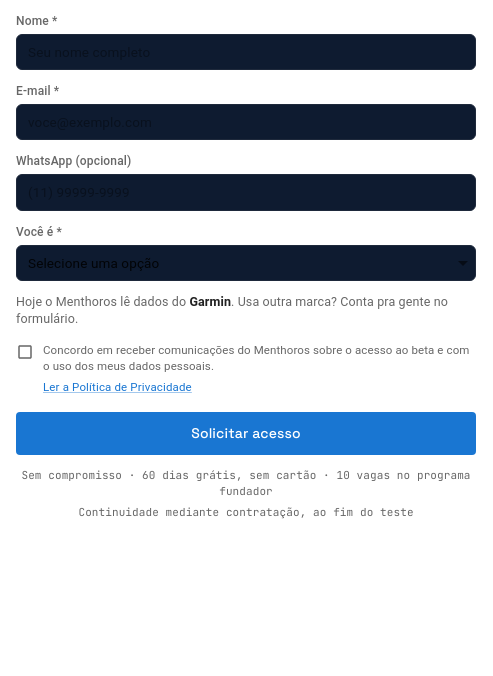
AccessRequestForm › mostra "Número de atletas" para treinador e proprietário, nunca para atleta
The width and height of the screenshot is (493, 676).
Check: the number field labelled "Número de atletas" is not shown
Select "Treinador" in the dropdown labelled "Você é" at [246, 263], box [17,246,475,280]
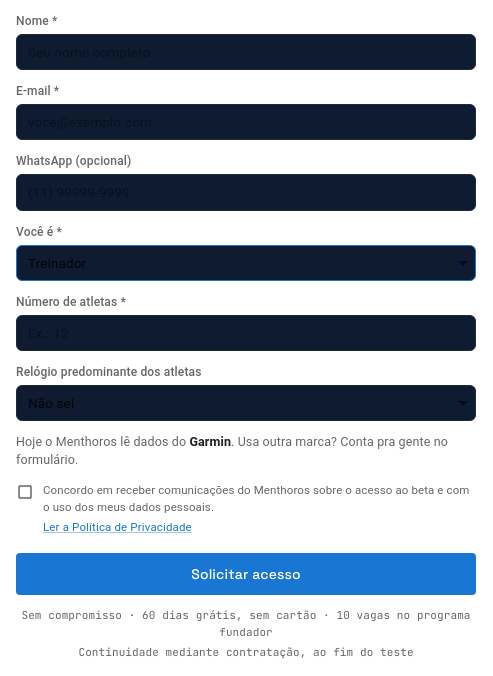
Check: the number field labelled "Número de atletas" is shown, box [17,316,475,350]
Select "Dono de assessoria" in the dropdown labelled "Você é" at [246, 263], box [17,246,475,280]
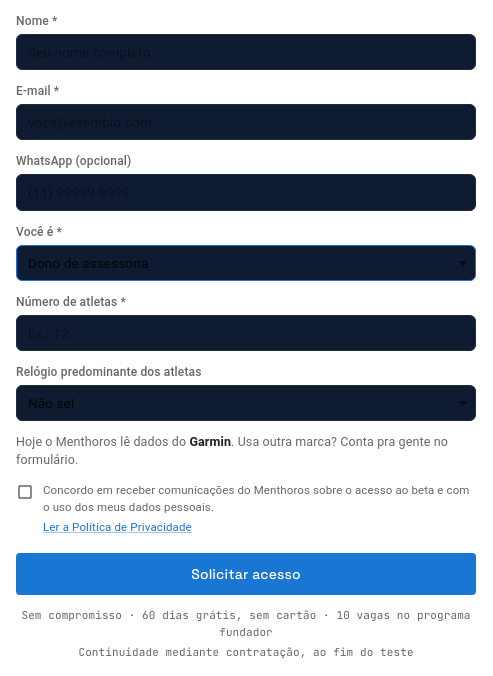
Check: the number field labelled "Número de atletas" is shown, box [17,316,475,350]
Select "Atleta" in the dropdown labelled "Você é" at [246, 263], box [17,246,475,280]
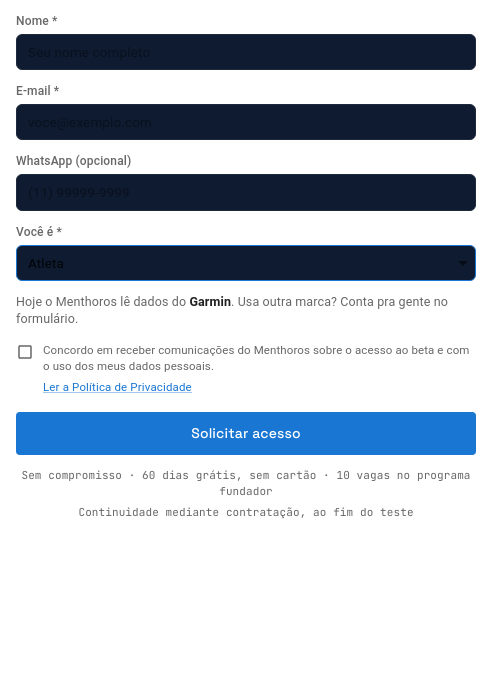
Check: the label "Número de atletas" is gone
